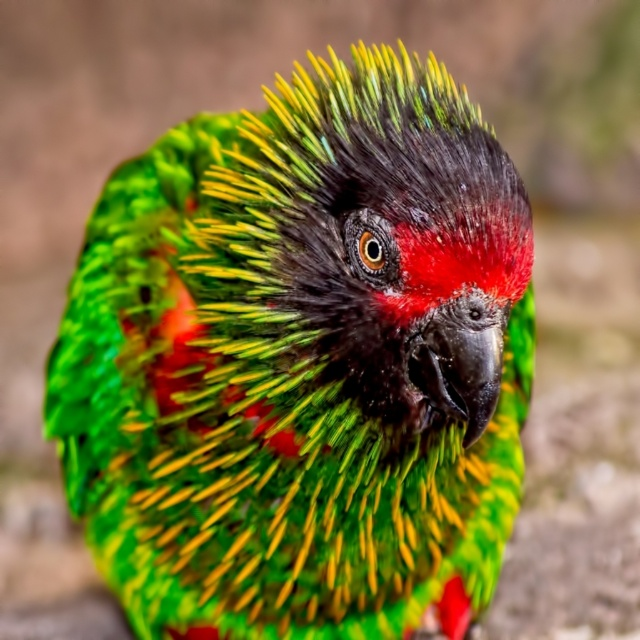Parrot: (41, 39, 538, 639)
